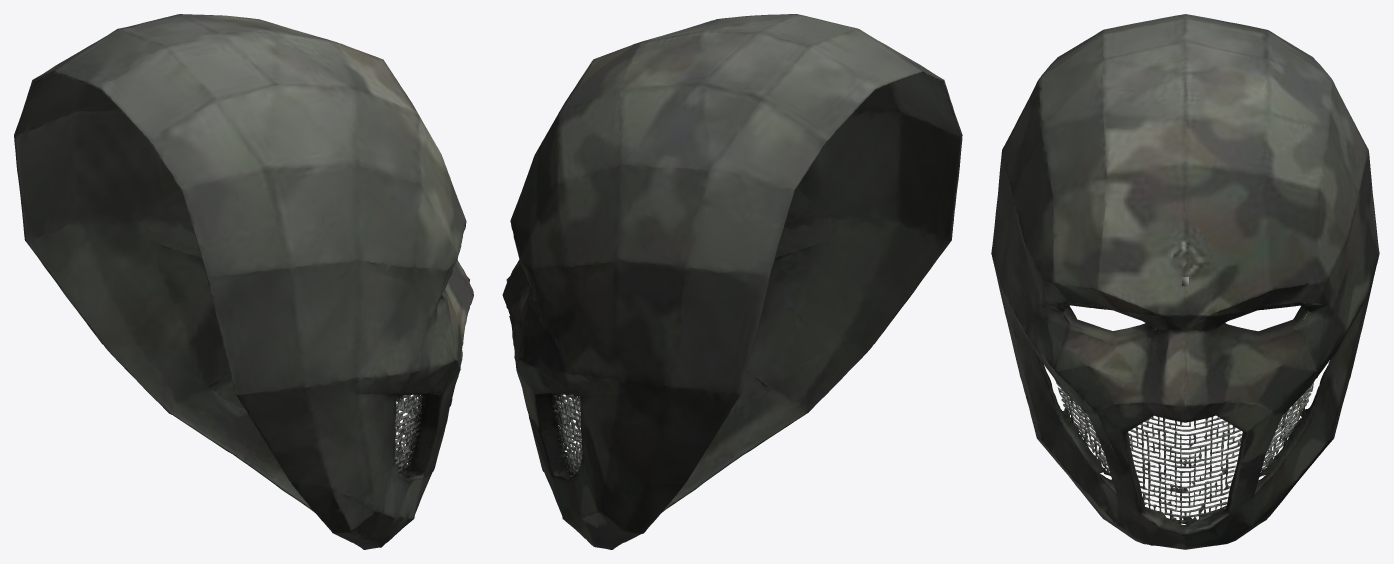
Rendered from mascara_camuflada.glb.
3 renders of one model, left to right at view 1: azimuth 30°, elevation 25°; view 2: azimuth 150°, elevation 25°; view 3: azimuth 270°, elevation 25°, orthographic. The views are drawn at different scales.
Parts seen in each view (by area): view 1: tripo_node_f43ce186-9549-42c6-99a2-10bcf49e2bf3; view 2: tripo_node_f43ce186-9549-42c6-99a2-10bcf49e2bf3; view 3: tripo_node_f43ce186-9549-42c6-99a2-10bcf49e2bf3.
Boxes of the visible parts, <box> form: tripo_node_f43ce186-9549-42c6-99a2-10bcf49e2bf3: <box>14,14,473,549</box>; tripo_node_f43ce186-9549-42c6-99a2-10bcf49e2bf3: <box>502,14,962,549</box>; tripo_node_f43ce186-9549-42c6-99a2-10bcf49e2bf3: <box>991,14,1379,549</box>.
Bounding box in the file's own units: 0.7237 × 0.9996 × 0.7743.
1 material, 1 textured.
